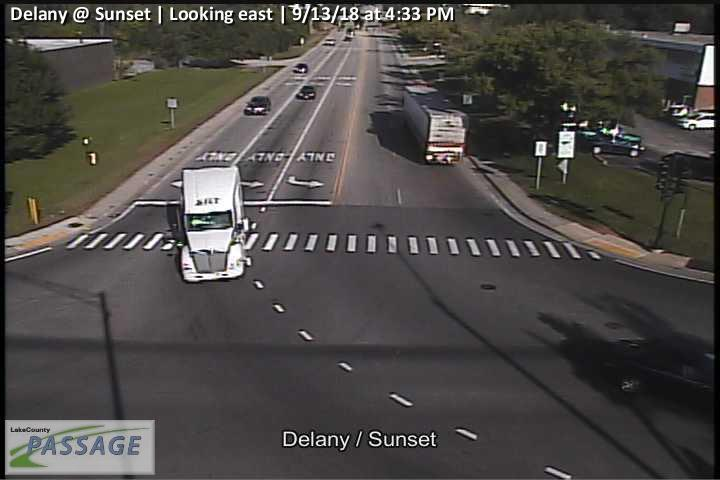Sedan: (244, 95, 270, 114), (296, 85, 315, 100), (292, 63, 308, 73)
Truck: (179, 165, 250, 282), (402, 83, 468, 165)
